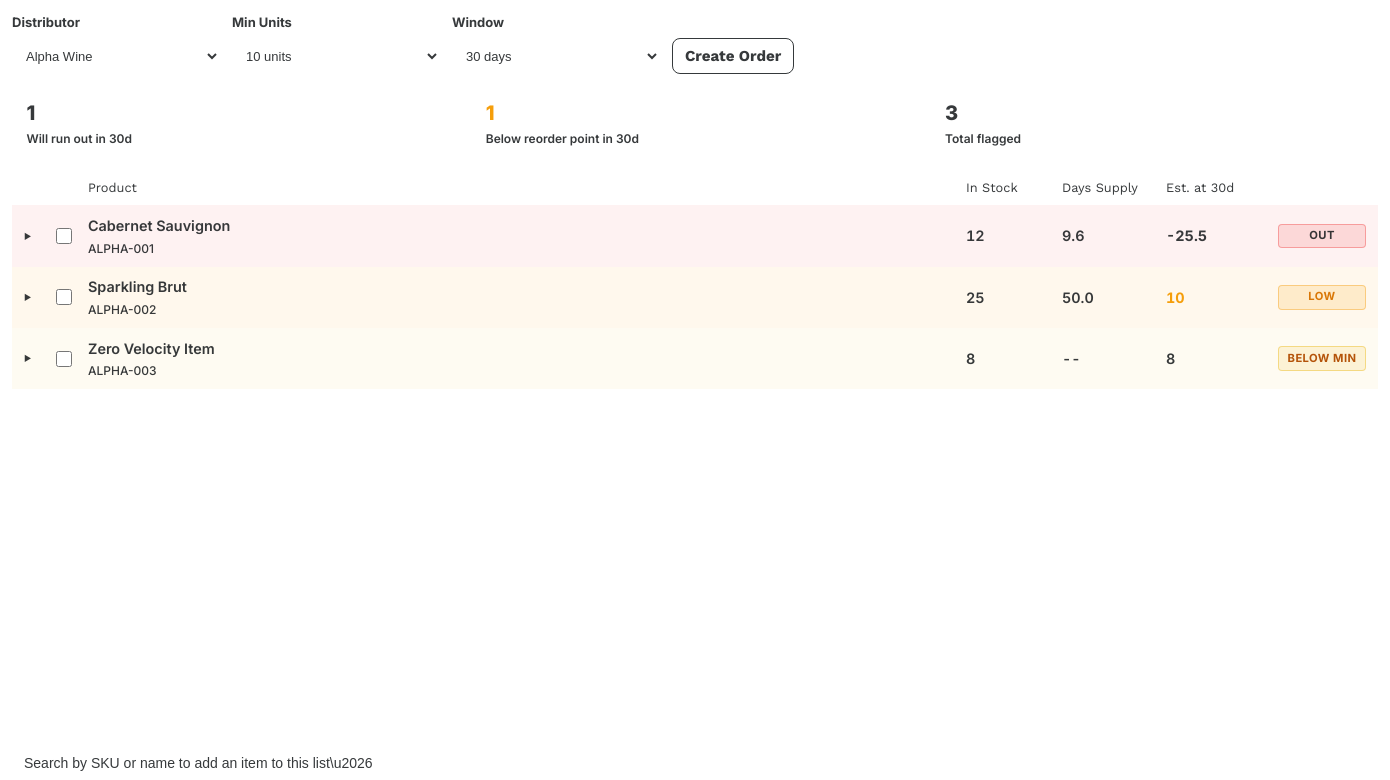
Test: ReorderDashboard › disables create order for the unassigned bucket
The image size is (1390, 780).
Check: the text "Cabernet Sauvignon" is shown, box [88,217,230,234]
Select "Unassigned" in the dropdown labelled "Distributor" at [116, 56], box [12,38,220,74]
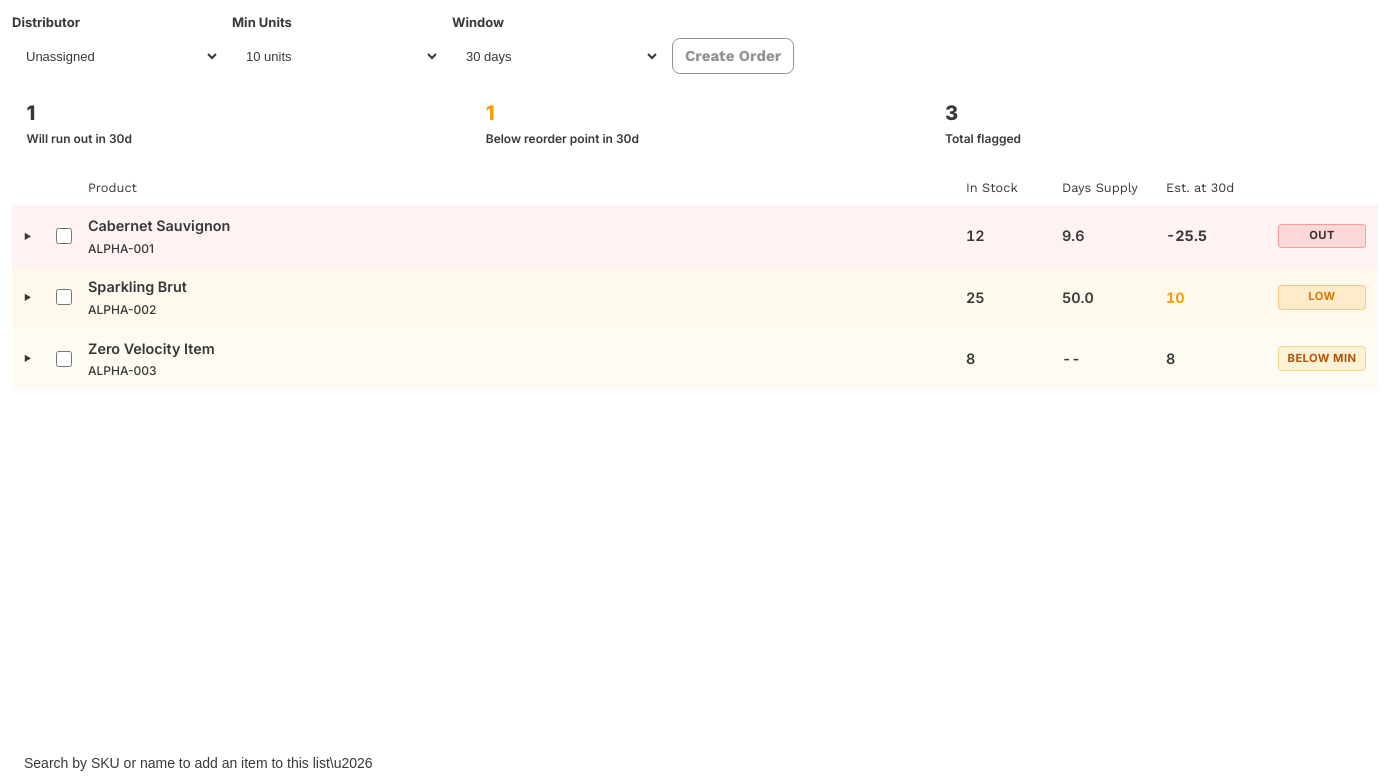
Check: the button "Create Order" is disabled, box [672,38,794,74]
